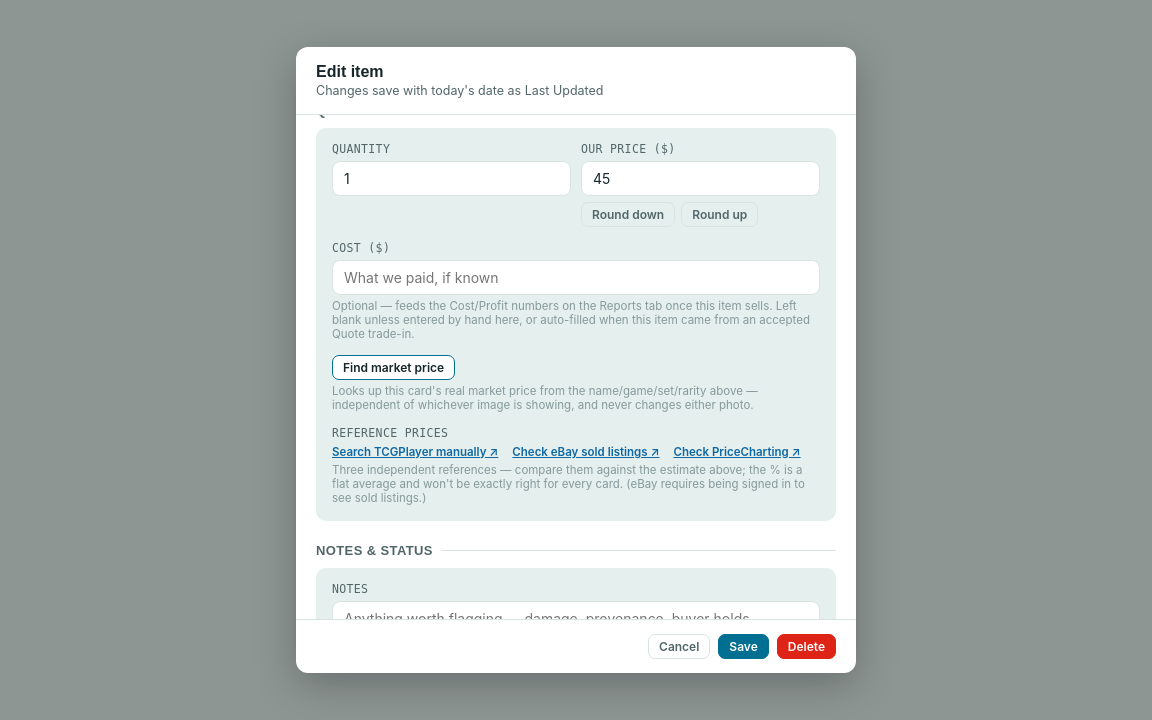
Test: EditModal — image candidate selection › offers the same manual link when a price search finds a match with no price data
(page scrolled)
Click the button "Find market price". click: (394, 367)
box: [332,354,455,380]
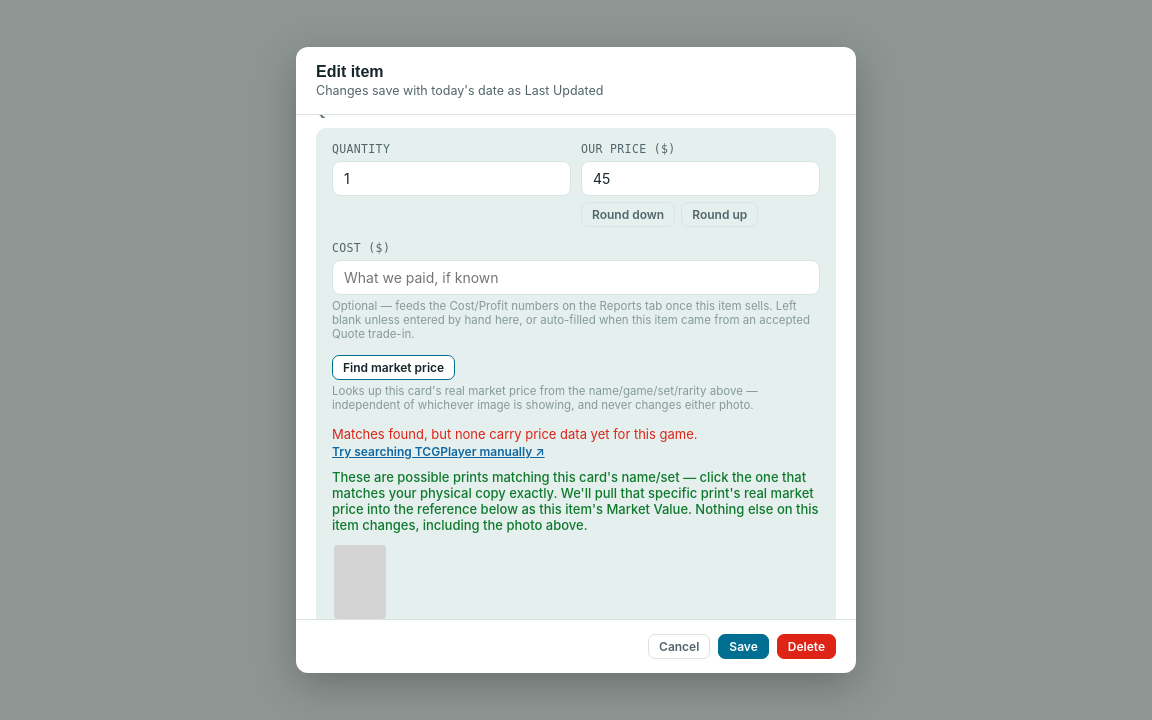
Result: the text "Matches found, but none carry price data yet for this game." is shown at [332,426,698,442]
Result: the link "Try searching TCGPlayer manually ↗" is shown at [332,444,545,458]
